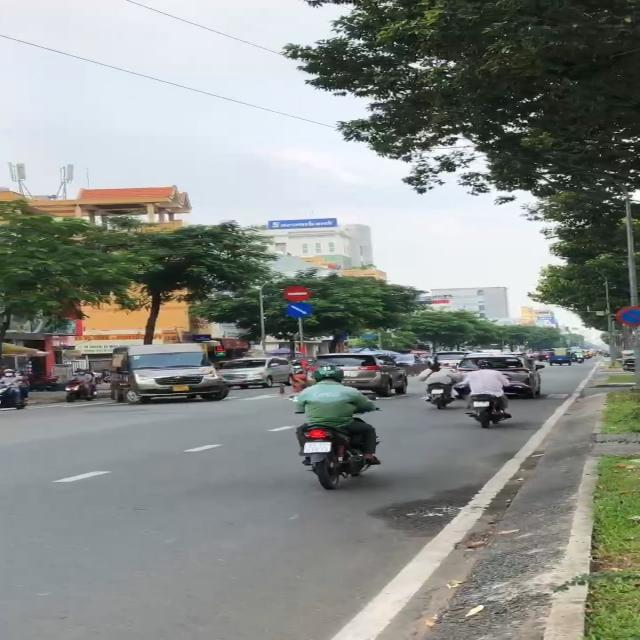Bien bao cam di nguoc chieu: (280, 285, 314, 302)
Bien bao huong phai di vong chuong ngai vat: (285, 302, 316, 319)
